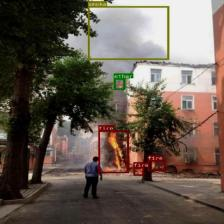fire: (97, 130, 128, 173), (147, 160, 165, 170), (133, 166, 144, 176)
smoke: (87, 6, 169, 60)
